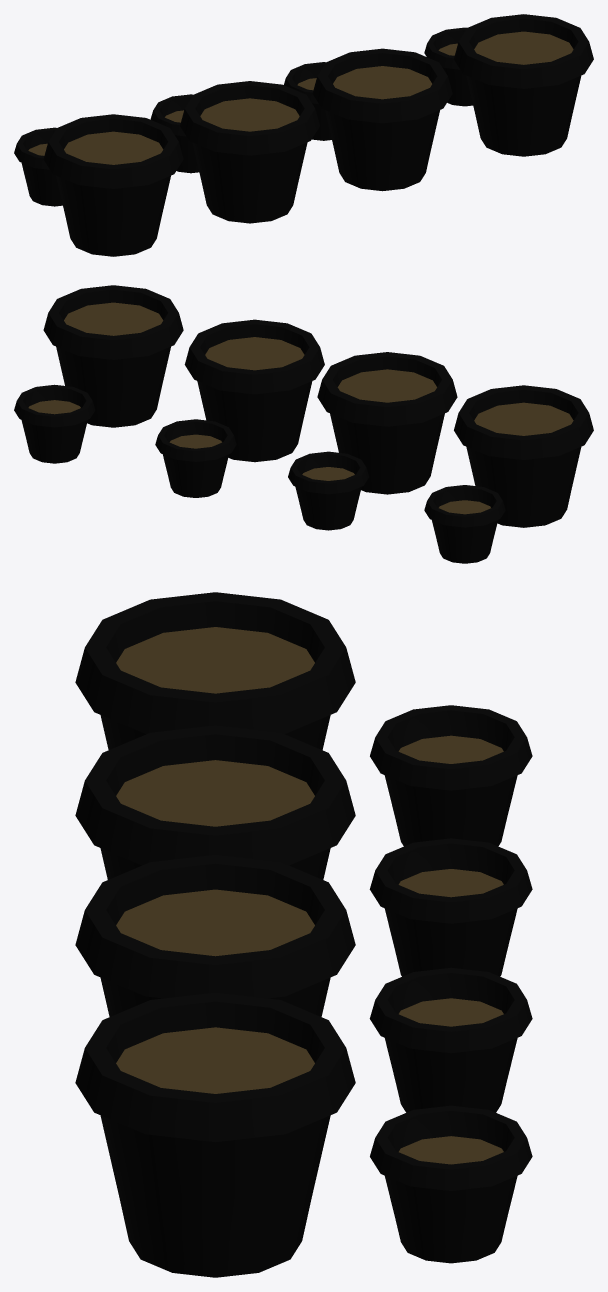
The model's file is TH_PlantPots_GRB_v1.fbx.
3 renders of one model, top to bottom at view 1: azimuth 30°, elevation 25°; view 2: azimuth 150°, elevation 25°; view 3: azimuth 270°, elevation 25°, orthographic. The views are drawn at different scales.
Visible parts, largest first — view 1: Big_Pot2, Big_Pot, Big_Pot1, Big_Pot3, pCylinder8, pCylinder10, pCylinder6, pCylinder12, Small_Pot3, Small_Pot, Small_Pot2, Small_Pot1; view 2: Big_Pot3, Big_Pot, Big_Pot2, Big_Pot1, Small_Pot, Small_Pot2, Small_Pot1, Small_Pot3, pCylinder6, pCylinder8, pCylinder10, pCylinder12 (+4 smaller); view 3: Big_Pot, Big_Pot1, Big_Pot3, Big_Pot2, Small_Pot, Small_Pot1, Small_Pot3, Small_Pot2, pCylinder6, pCylinder12, pCylinder10, pCylinder8 (+4 smaller).
Boxes of the visible parts, x1,y1,x2,y2 form: Big_Pot2: (180,81,319,223); Big_Pot: (454,14,593,156); Big_Pot1: (312,48,452,191); Big_Pot3: (43,114,183,256); pCylinder8: (333,66,431,99); pCylinder10: (200,98,299,131); pCylinder6: (474,31,573,64); pCylinder12: (64,131,163,164); Small_Pot3: (14,127,62,206); Small_Pot: (424,27,472,106); Small_Pot2: (150,94,199,173); Small_Pot1: (284,62,331,140); Big_Pot3: (454,385,593,527); Big_Pot: (43,285,183,427); Big_Pot2: (317,352,457,494); Big_Pot1: (184,319,324,462); Small_Pot: (14,384,95,463); Small_Pot2: (288,451,368,530); Small_Pot1: (155,419,236,497); Small_Pot3: (424,485,505,563); pCylinder6: (64,302,163,335); pCylinder8: (205,337,304,370); pCylinder10: (337,369,436,402); pCylinder12: (474,402,573,435); Big_Pot: (75,992,355,1277); Big_Pot1: (75,854,355,1016); Big_Pot3: (75,592,355,749); Big_Pot2: (75,725,355,879); Small_Pot: (370,1105,532,1263); Small_Pot1: (369,967,532,1112); Small_Pot3: (370,705,532,846); Small_Pot2: (369,838,532,976); pCylinder6: (116,1027,314,1093); pCylinder12: (116,627,314,693); pCylinder10: (116,760,314,826); pCylinder8: (116,889,314,956).
Bounding box in the file's own units: 238 × 41.54 × 88.56.
